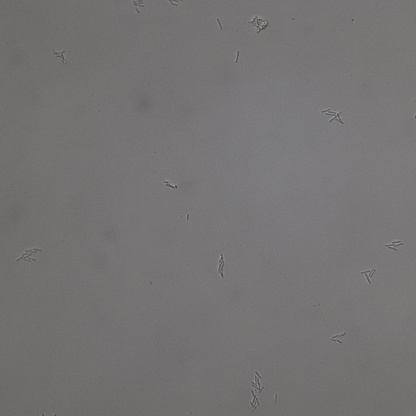R(colony): (15, 247, 42, 262), (321, 108, 343, 124), (251, 370, 264, 392), (361, 267, 376, 285), (247, 393, 260, 413), (385, 238, 404, 251), (329, 331, 347, 344)
